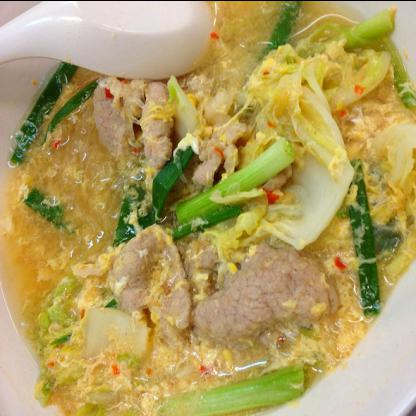Suki: (8, 0, 416, 410)
